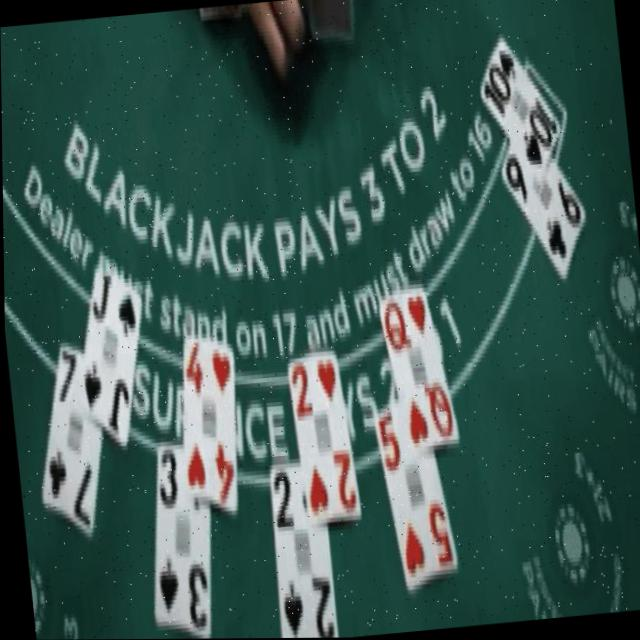Card-10: (479, 31, 559, 183)
Card-2: (286, 345, 359, 527), (268, 465, 336, 638)
Card-3: (153, 442, 208, 639)
Card-4: (183, 331, 235, 513)
Card-5: (372, 405, 455, 588)
Card-7: (40, 336, 100, 540)
Card-9: (499, 145, 585, 279)
Card-J: (75, 263, 139, 451)
Card-Q: (378, 286, 458, 454)
